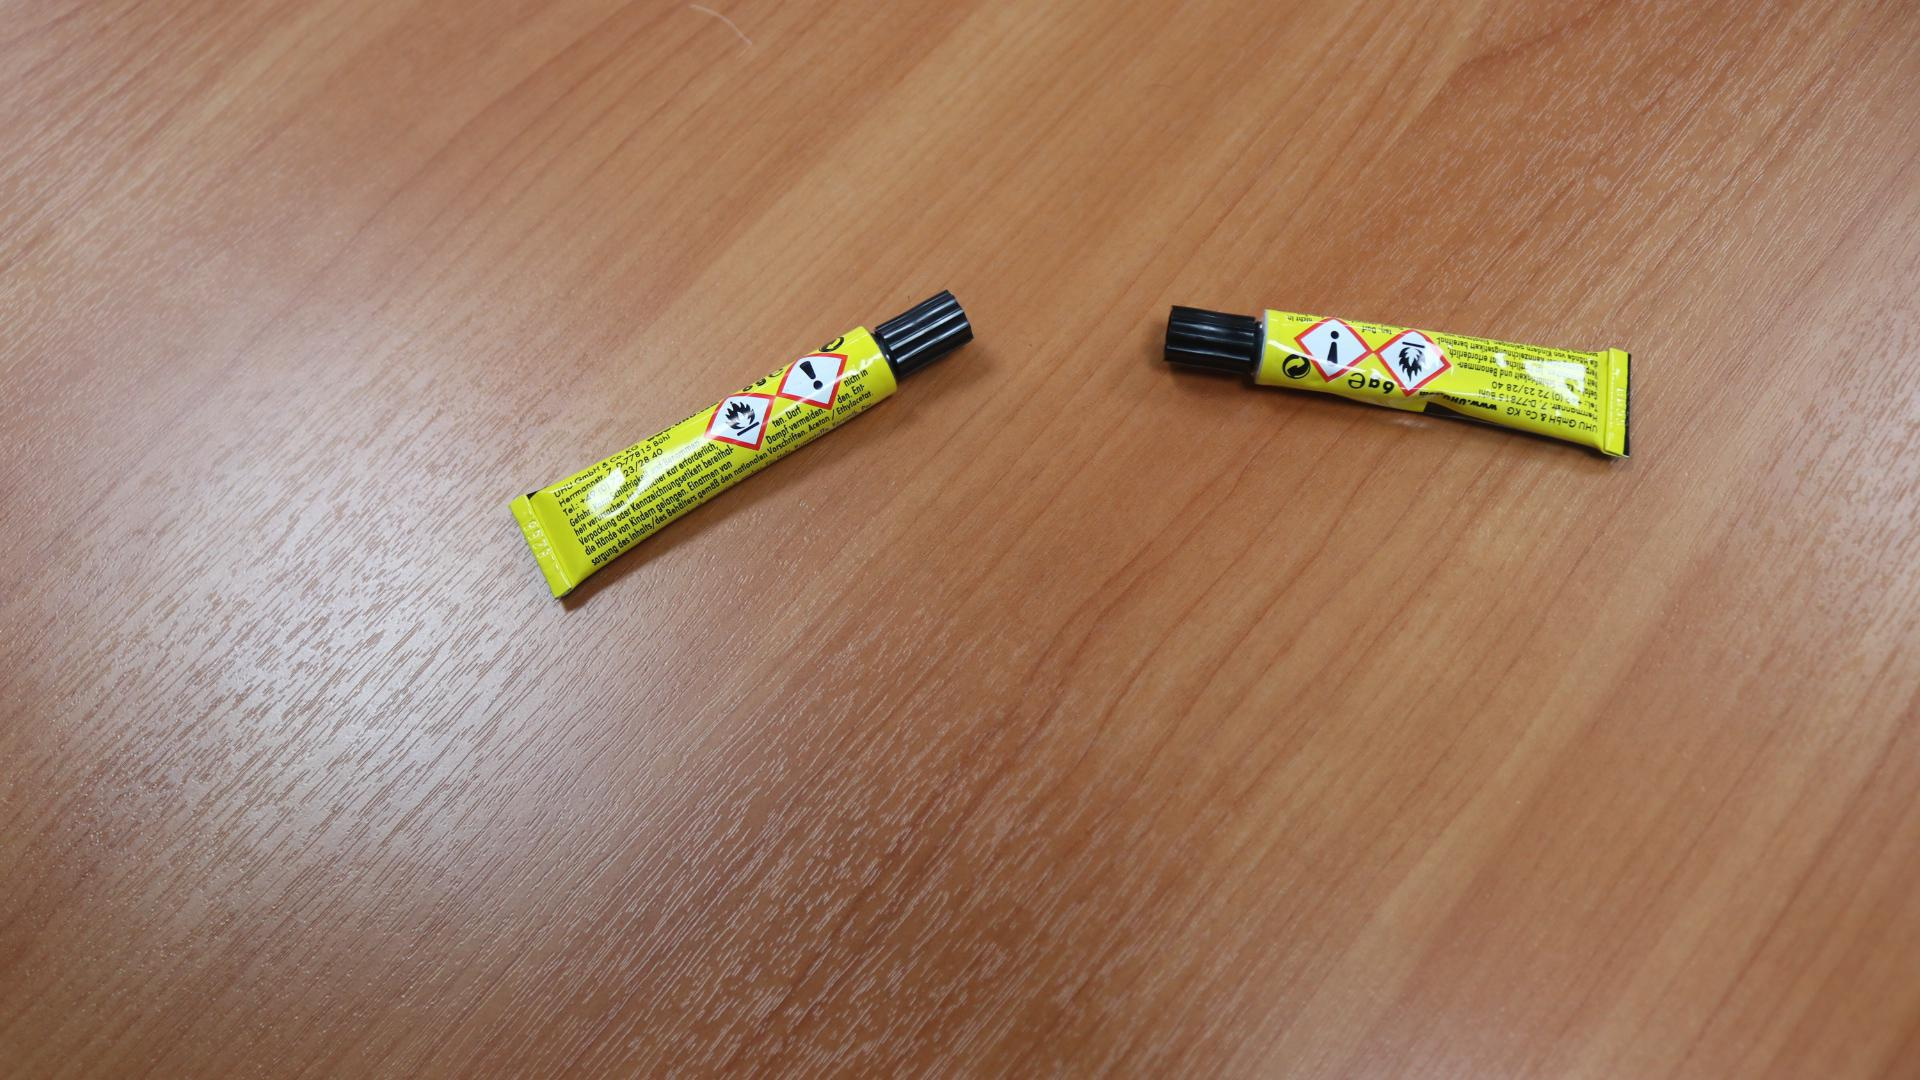Head: (915, 325, 929, 338), (1206, 333, 1219, 344)
Tail: (533, 540, 548, 554), (1613, 393, 1624, 405)
Tube: (512, 290, 972, 601), (1163, 304, 1633, 458)
